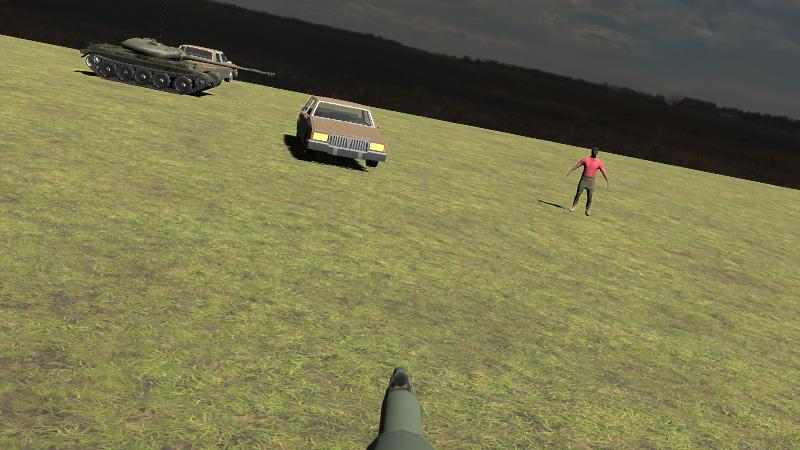Human: (566, 145, 609, 218)
Tank: (79, 35, 281, 97)
car: (295, 95, 387, 169)
